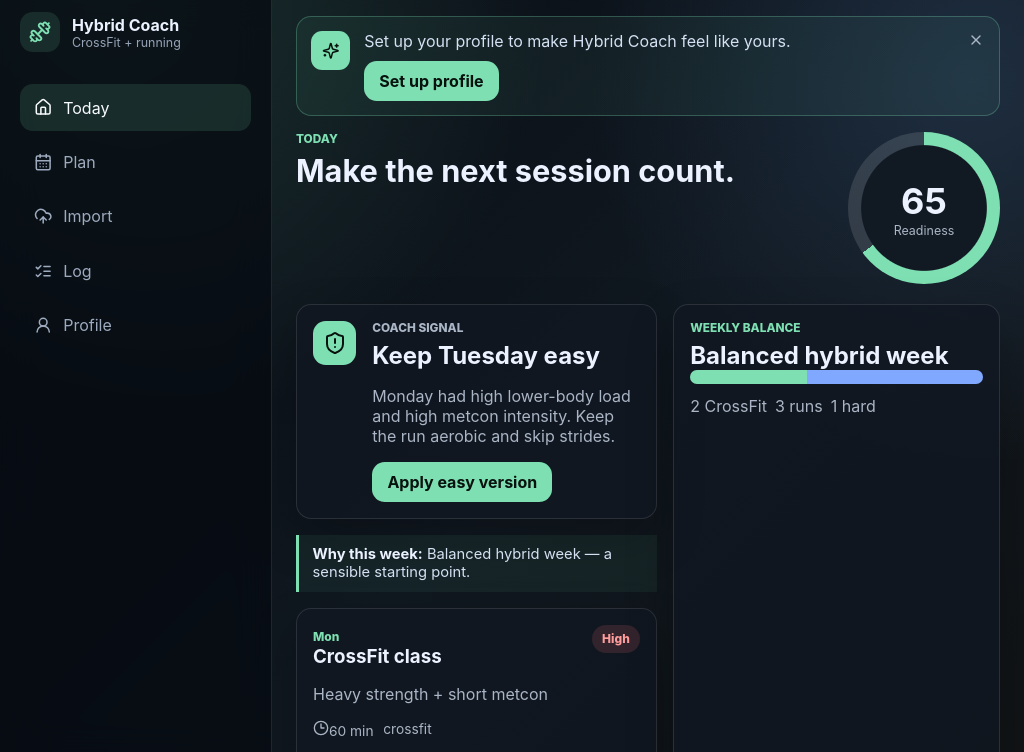
Test: App › navigates to the profile privacy context
Click the button "Profile" at (136, 325), box [20, 302, 251, 349]
(page scrolled)
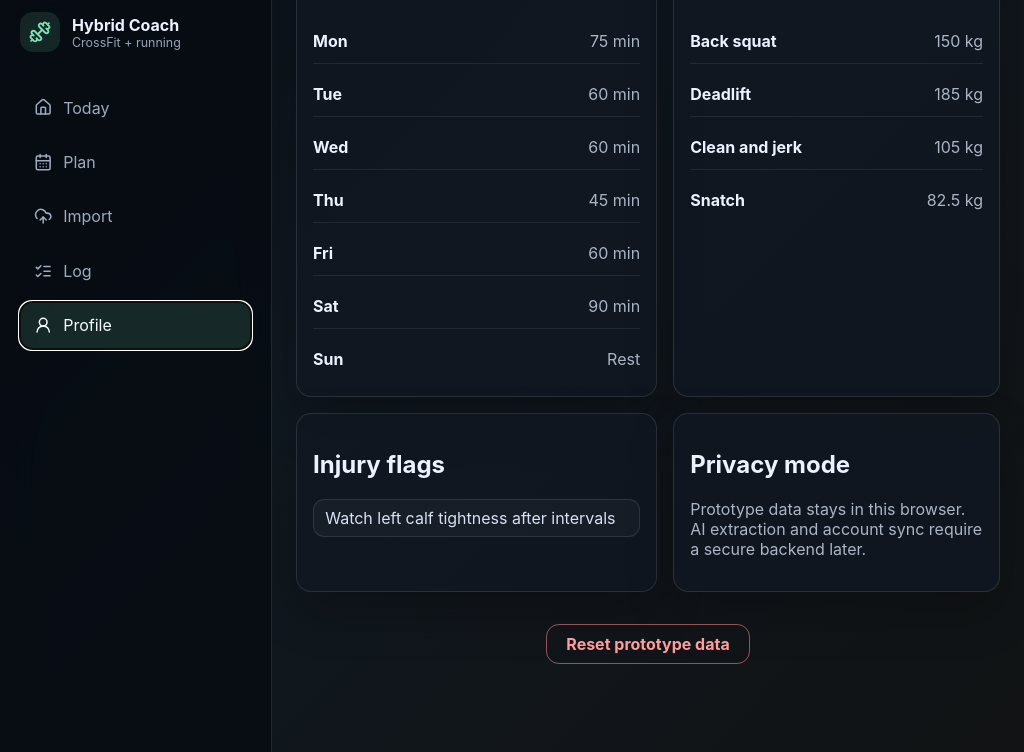
Check: the text "secure backend" is shown, box [690, 499, 982, 559]
